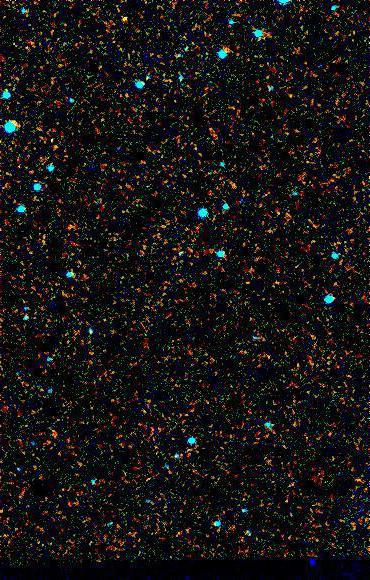star: (112, 4, 142, 34)
